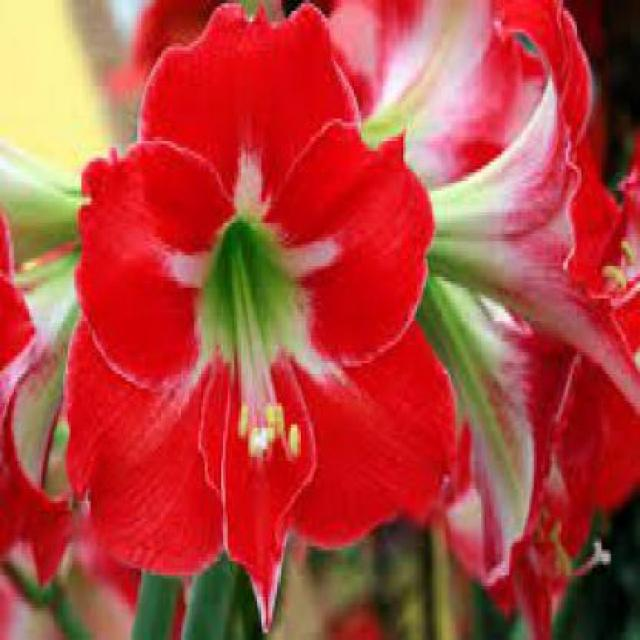Flower: (66, 3, 477, 637), (238, 402, 300, 461)
